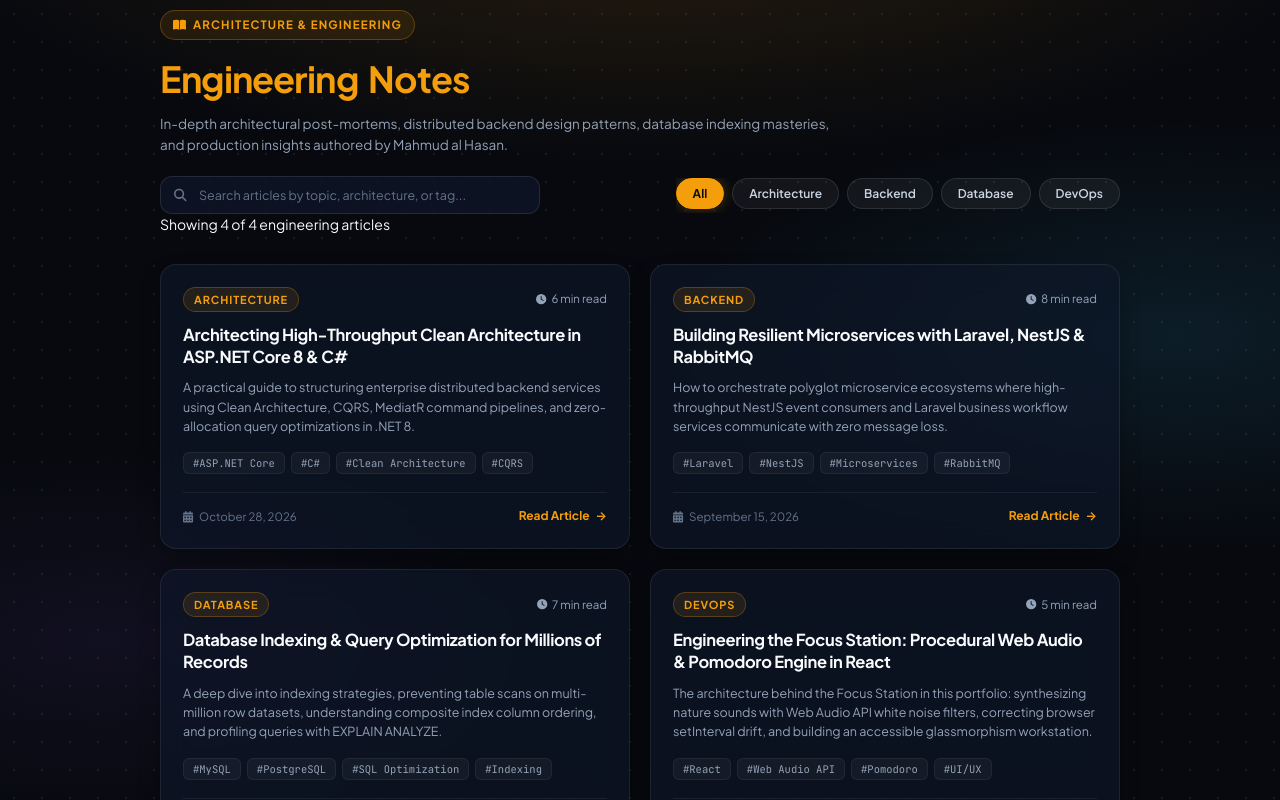
Blog Component › filters articles when search query is entered
Type "RabbitMQ" into the field with placeholder "Search articles by topic, architecture, or tag..." at point(350, 195), box [160,176,540,214]
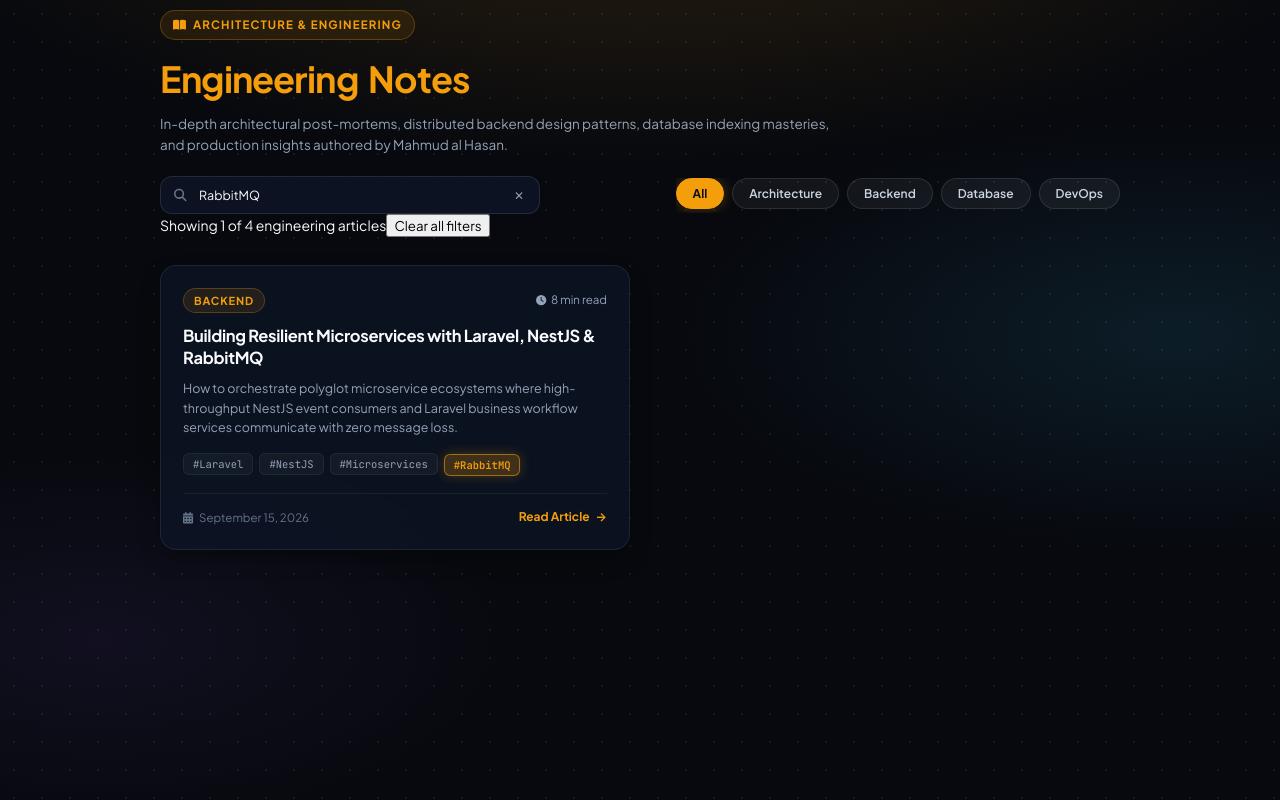
Expected: the link "Building Resilient Microservices with Laravel" is shown, [183,325,595,368]
Expected: the link "Database Indexing & Query Optimization" is gone
